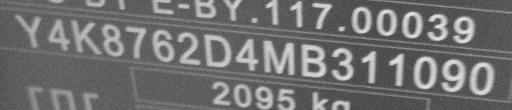letter: (260, 38, 298, 76), (69, 17, 103, 57), (202, 31, 234, 69), (98, 19, 128, 59), (13, 11, 43, 50), (298, 41, 328, 79), (466, 60, 496, 95), (439, 56, 467, 93), (46, 15, 72, 54), (122, 23, 148, 62), (175, 31, 203, 67), (328, 45, 356, 81), (411, 53, 439, 89), (234, 34, 260, 72), (150, 27, 176, 63), (386, 51, 406, 87), (359, 49, 379, 84)
